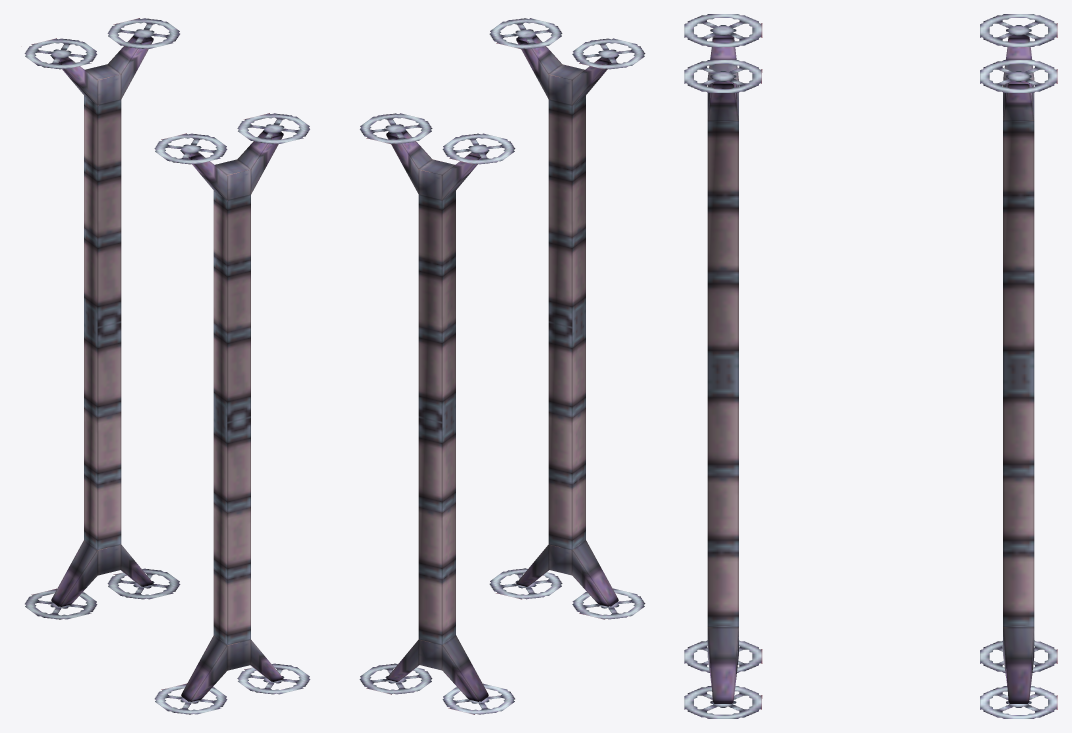
The picture shows the model from 3 angles, left to right: view 1: azimuth 30°, elevation 25°; view 2: azimuth 150°, elevation 25°; view 3: azimuth 270°, elevation 25°; orthographic projection. The views are drawn at different scales.
Visible parts, largest first — view 1: T1L7M002_2; view 2: T1L7M002_2; view 3: T1L7M002_2.
Part boxes in pixels (bbox=[...]): T1L7M002_2: bbox=[24, 18, 310, 714]; T1L7M002_2: bbox=[359, 18, 645, 714]; T1L7M002_2: bbox=[684, 14, 1057, 718].
Bounding box in the file's own units: 1.02 × 3.76 × 2.03.
